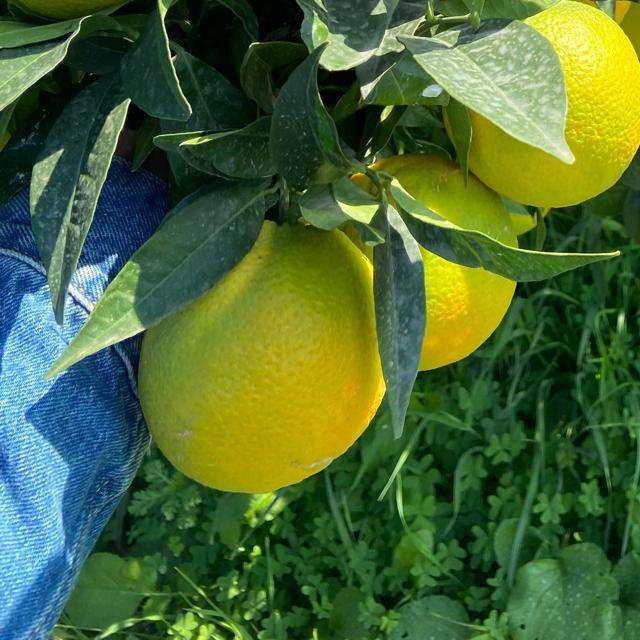orange: (143, 202, 397, 504), (342, 140, 534, 380), (447, 0, 640, 221), (3, 0, 219, 19), (590, 0, 640, 66)
